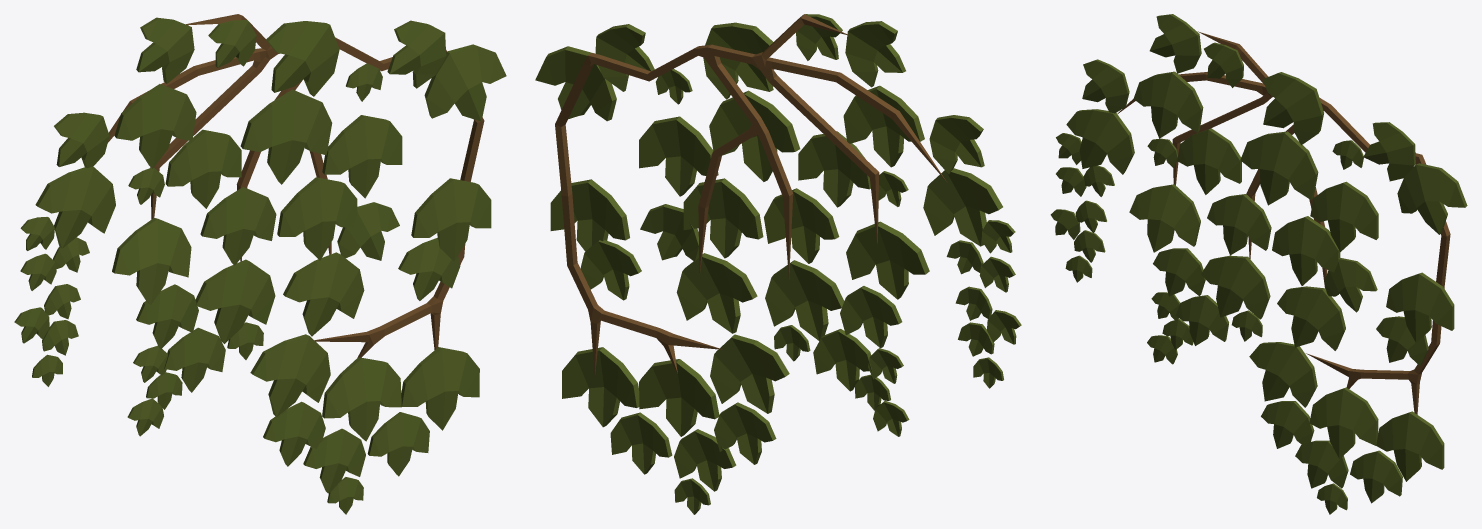
File: Vine_Vege_01.glb
The picture shows the model from 3 angles, left to right: view 1: azimuth 30°, elevation 25°; view 2: azimuth 150°, elevation 25°; view 3: azimuth 330°, elevation 25°; orthographic projection. The views are drawn at different scales.
Parts seen in each view (by area): view 1: Vine_Vege_01; view 2: Vine_Vege_01; view 3: Vine_Vege_01.
Part boxes in pixels (<box>): Vine_Vege_01: <box>14,14,506,514</box>; Vine_Vege_01: <box>535,14,1021,514</box>; Vine_Vege_01: <box>1050,14,1467,514</box>.
Bounding box in the file's own units: 5.47 × 5.79 × 0.3193.
Materials: 1 (1 with a texture image).
